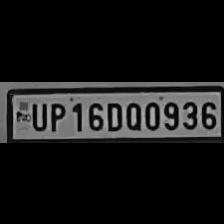0: (142, 98, 160, 130)
1: (67, 99, 83, 130)
3: (180, 97, 198, 129)
6: (86, 99, 104, 130), (198, 97, 216, 128)
9: (161, 97, 179, 129)
D: (104, 98, 122, 130)
P: (46, 99, 66, 131)
Q: (124, 98, 142, 130)
U: (28, 99, 46, 130)
